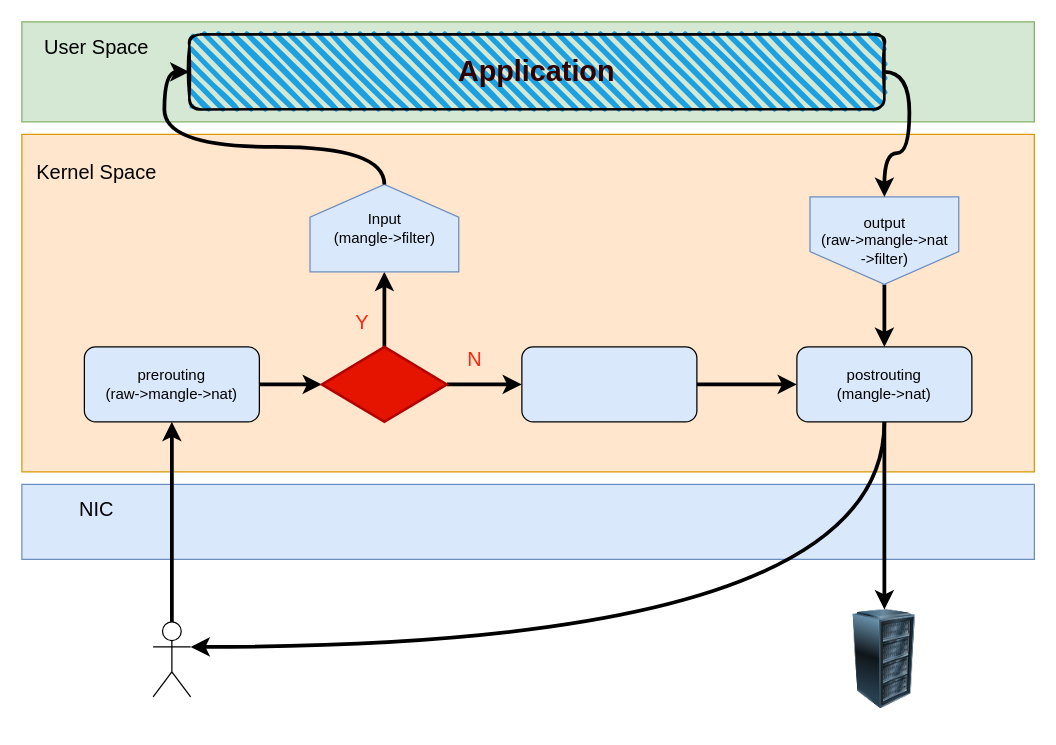
This 1056x745 diagram has some shape labels left out. The centre of each missing label's shape, as x and y in pixels:
"Destination 为本机" goes at (384,383).
"forward (mangle->filter)" goes at (609,384).
"Users" goes at (171,659).
